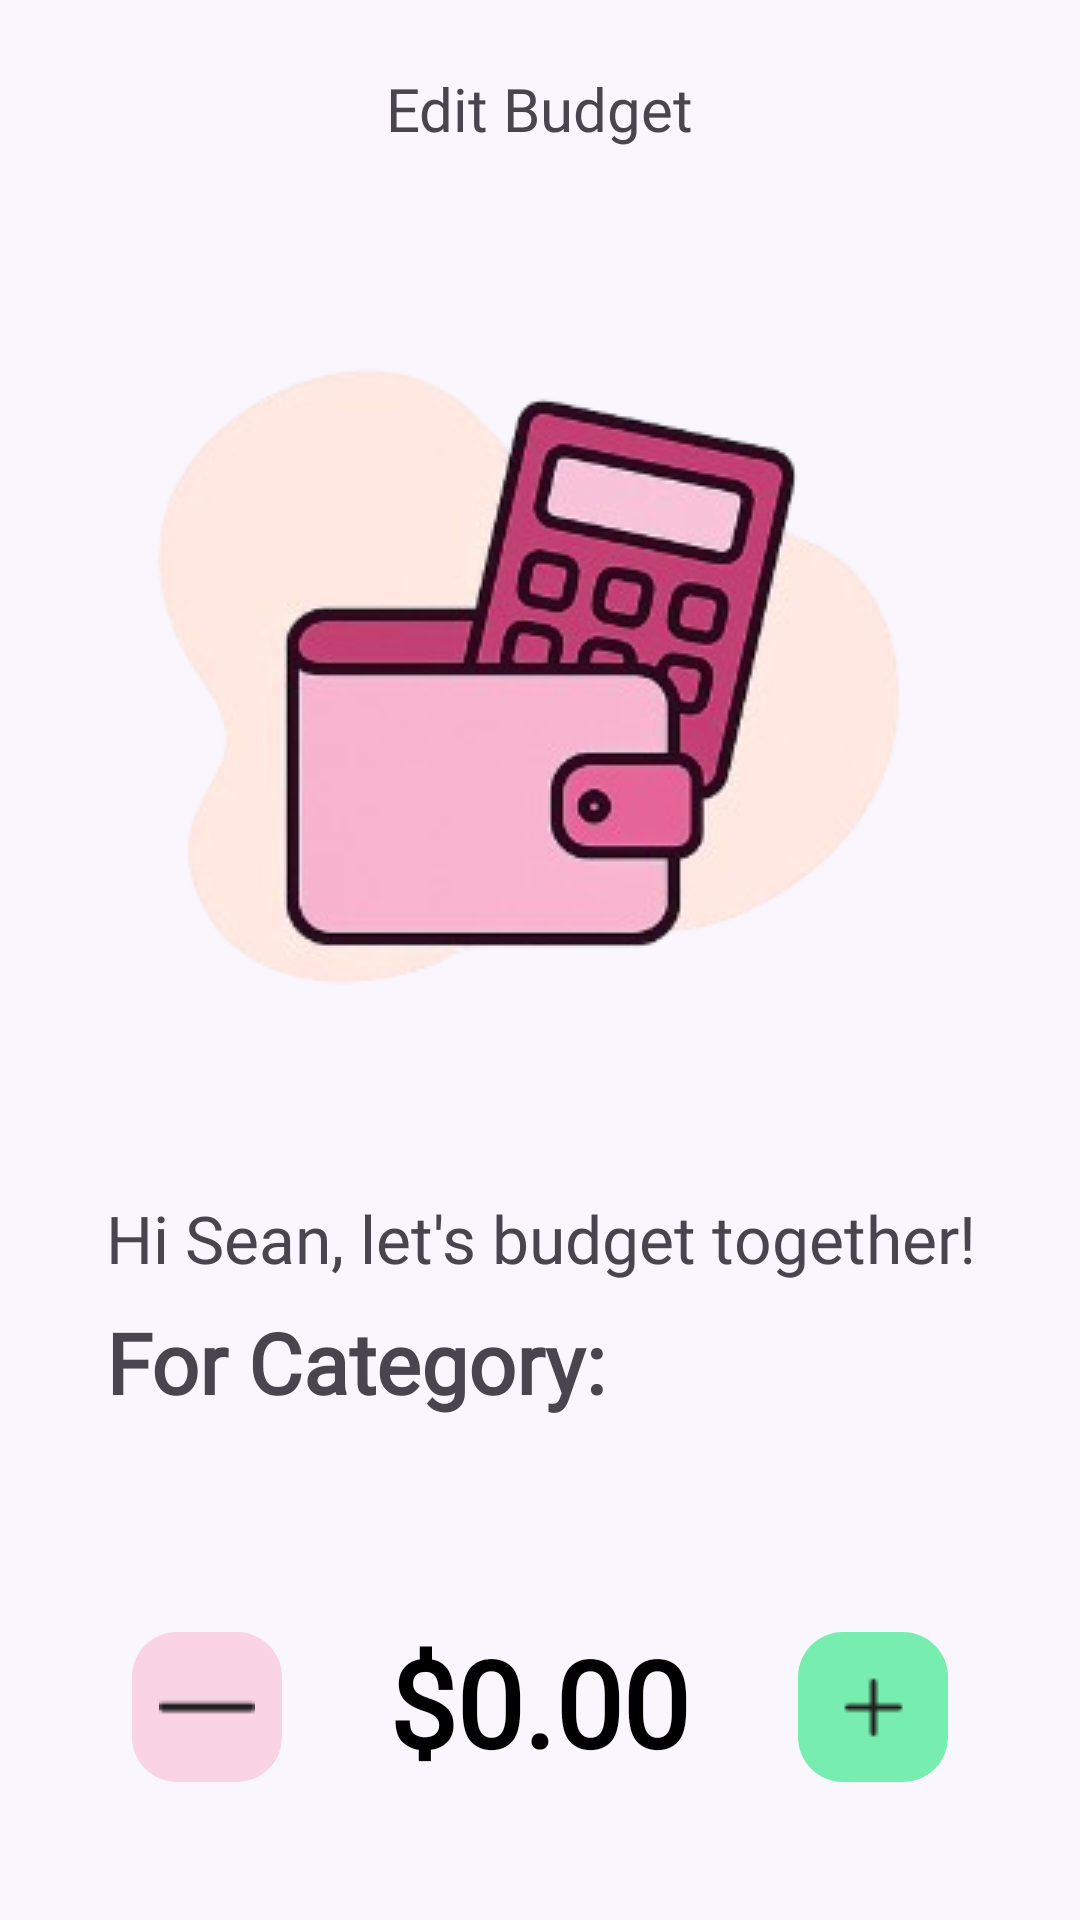

Where to tap for icons on this 1080px x 1920px app screen, as (x=x, y=y):
minus: (x=207, y=1707)
plus: (x=873, y=1707)
